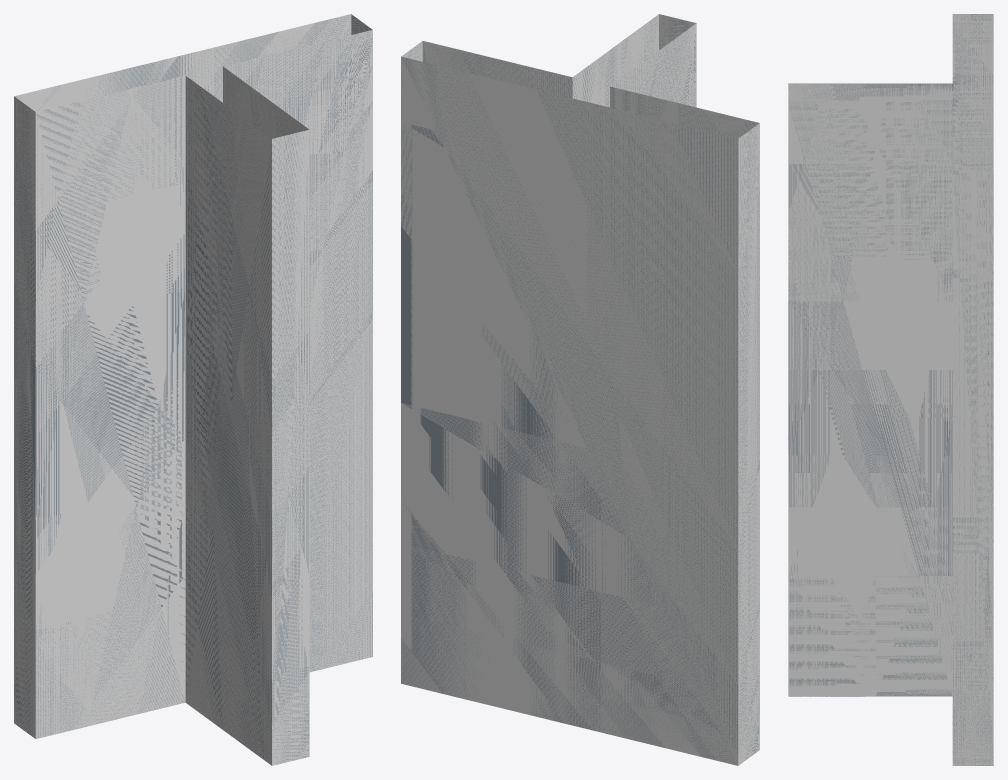
Rendered from Corner_ds_double_100x100x025x4.dae.
3 views of the same model, side by side, from view 1: azimuth 30°, elevation 25°; view 2: azimuth 150°, elevation 25°; view 3: azimuth 270°, elevation 25° (orthographic). The views are drawn at different scales.
Visible parts, largest first — view 1: group_0; view 2: group_0; view 3: group_0.
Boxes of the visible parts, x1,y1,x2,y2 form: group_0: [14, 14, 372, 765]; group_0: [401, 14, 759, 765]; group_0: [788, 14, 993, 765].
Bounding box in the file's own units: 88.58 × 49.21 × 157.
